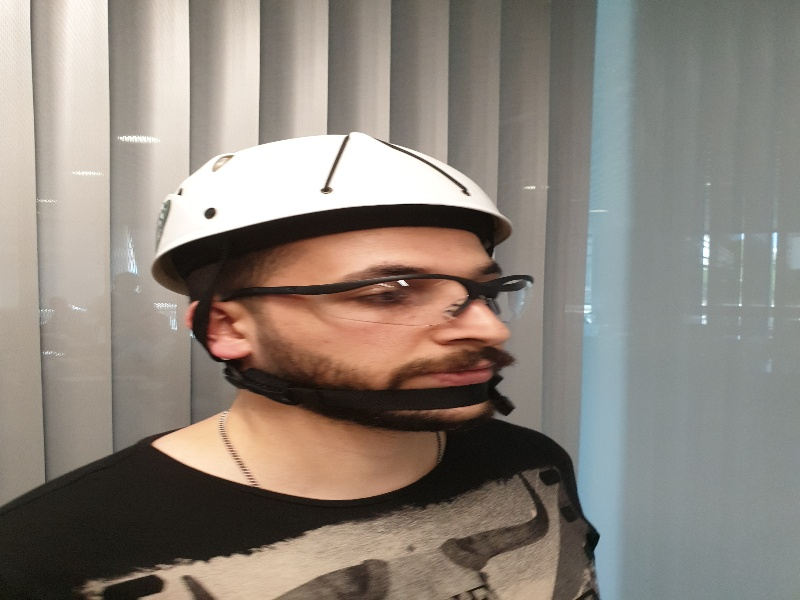Baret: (154, 131, 507, 268)
Gozluk: (222, 271, 538, 329)
